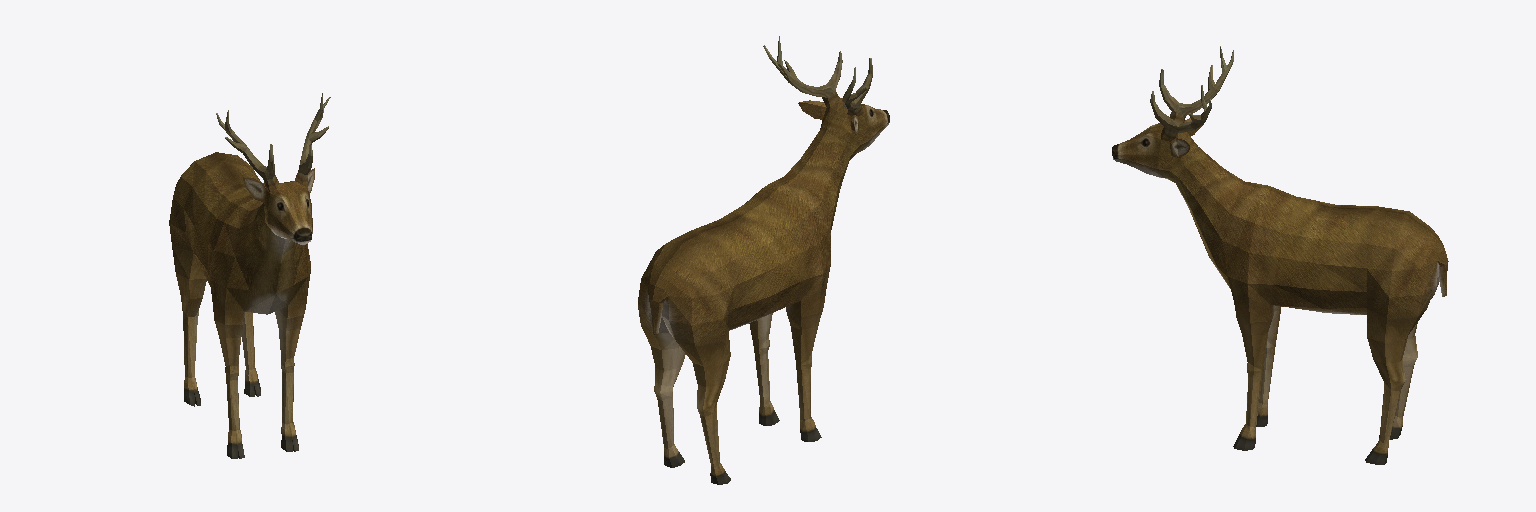
3 views of the same model, side by side, from view 1: azimuth 30°, elevation 25°; view 2: azimuth 150°, elevation 25°; view 3: azimuth 270°, elevation 25° (orthographic).
Visible parts, largest first — view 1: deerD:deer___UN deerD:group deerD:polySurface1 group; view 2: deerD:deer___UN deerD:group deerD:polySurface1 group; view 3: deerD:deer___UN deerD:group deerD:polySurface1 group.
Boxes of the visible parts, <box> form: deerD:deer___UN deerD:group deerD:polySurface1 group: <box>169,93,330,458</box>; deerD:deer___UN deerD:group deerD:polySurface1 group: <box>638,36,889,484</box>; deerD:deer___UN deerD:group deerD:polySurface1 group: <box>1112,46,1448,464</box>.
Size of the model in its own units: 50.4 by 137 by 113.
1 materials, 1 textured.